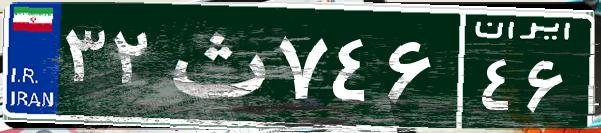2: (110, 28, 158, 105)
3: (57, 26, 110, 107)
4: (330, 28, 385, 110), (475, 38, 525, 113)
6: (385, 28, 445, 110), (525, 38, 570, 115)
7: (273, 28, 330, 110)
ث: (158, 15, 273, 115)
